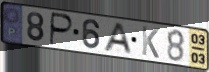6: (82, 18, 102, 51)
8: (166, 29, 187, 63), (26, 11, 46, 43)
A: (102, 22, 135, 56)
K: (141, 24, 160, 60)
P: (49, 11, 76, 48)
